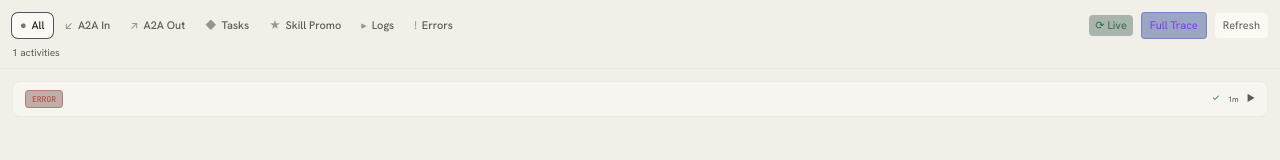
ActivityTab — count display › shows count with filter label when non-all filter selected
What coordinates should you click on to do the following:
click the button "! Errors"
I would click on:
 (434, 25)
Its box is [406, 13, 461, 38].
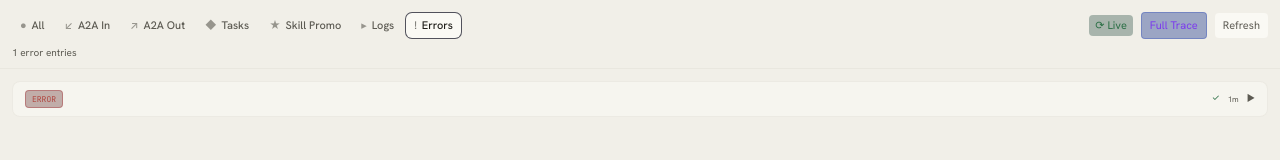
Expected: the text "1 error entries" is shown, [12, 46, 77, 58]
